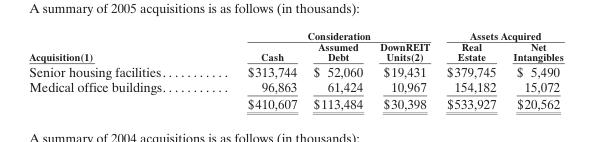table: (28, 29, 562, 111)
table column: (28, 29, 205, 111), (205, 29, 304, 111), (370, 29, 437, 111), (437, 29, 504, 111), (304, 29, 370, 111), (504, 29, 562, 111)
table column header: (28, 29, 562, 62)
table row: (28, 40, 562, 62), (28, 94, 562, 111), (28, 62, 562, 78), (28, 78, 562, 94), (28, 29, 562, 40)
table spanning cell: (28, 29, 205, 62), (205, 29, 437, 40), (437, 29, 562, 40)
